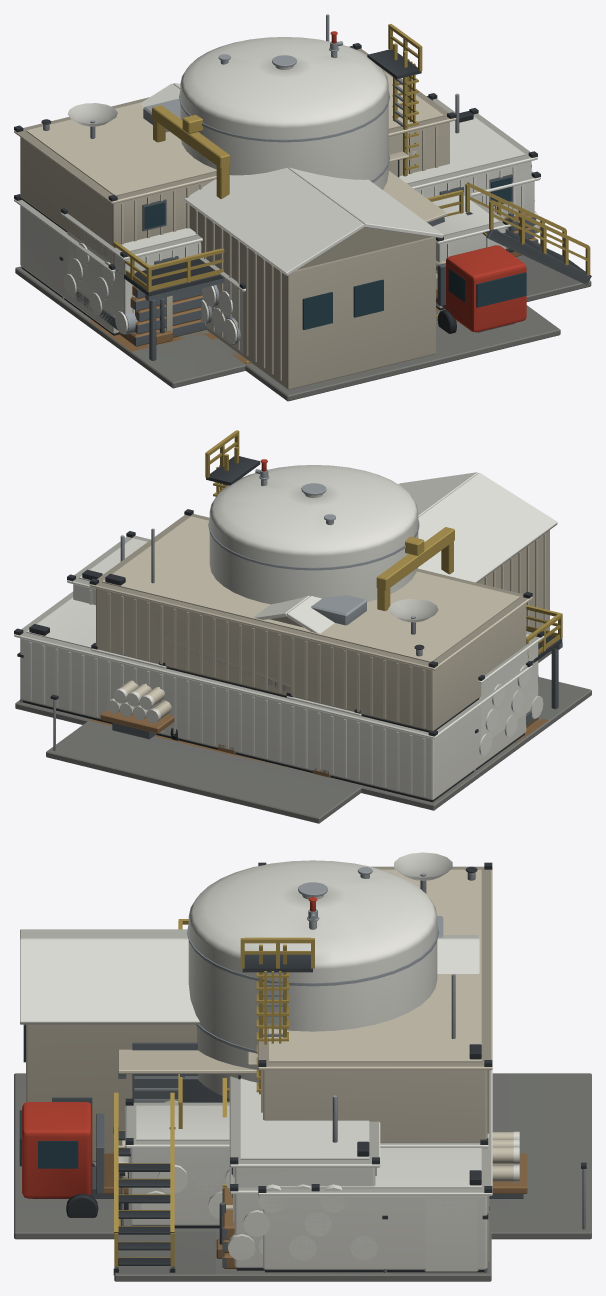
Rendered from buildings.glb.
3 renders of one model, top to bottom at view 1: azimuth 30°, elevation 25°; view 2: azimuth 150°, elevation 25°; view 3: azimuth 270°, elevation 25°, orthographic. The views are drawn at different scales.
Parts seen in each view (by area): view 1: bld_2x3_a, bld_3x2_a, bld_2x2_a, bld_3x1_b, bld_2x2_b, bld_3x1_c, bld_3x1_d, bld_3x1_a, bld_2x2_e; view 2: bld_3x2_a, bld_2x3_a, bld_2x2_a, bld_3x1_b, bld_3x1_c, bld_3x1_a, bld_2x2_b; view 3: bld_3x2_a, bld_2x3_a, bld_2x2_a, bld_2x2_b, bld_3x1_b, bld_3x1_a, bld_3x1_c, bld_2x2_e, bld_3x1_d.
Boxes of the visible parts, x1,y1,x2,y2 form: bld_2x3_a: (140,83,560,401); bld_3x2_a: (14,14,591,388); bld_2x2_a: (179,24,513,364); bld_3x1_b: (59,93,537,330); bld_2x2_b: (199,171,511,364); bld_3x1_c: (87,105,540,351); bld_3x1_d: (118,213,538,346); bld_3x1_a: (57,200,540,356); bld_2x2_e: (200,285,240,344); bld_3x2_a: (14,509,591,810); bld_2x3_a: (46,472,557,823); bld_2x2_a: (89,430,419,786); bld_3x1_b: (67,531,544,771); bld_3x1_c: (376,527,548,773); bld_3x1_a: (473,665,548,776); bld_2x2_b: (89,636,361,756); bld_3x2_a: (113,852,492,1281); bld_2x3_a: (14,916,591,1239); bld_2x2_a: (119,860,438,1225); bld_2x2_b: (118,1049,490,1231); bld_3x1_b: (229,1076,380,1197); bld_3x1_a: (216,1184,389,1281); bld_3x1_c: (215,1167,387,1273); bld_2x2_e: (119,1100,229,1219); bld_3x1_d: (222,1187,236,1268).
Bounding box in the file's own units: 2.89 × 1.55 × 2.88.
